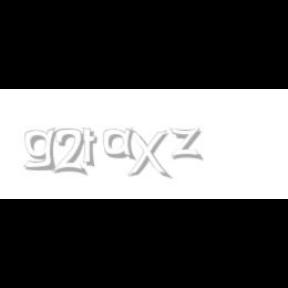2: (52, 128, 86, 176)
X: (125, 128, 169, 180)
a: (104, 128, 140, 160)
g: (24, 128, 60, 171)
t: (80, 128, 102, 168)
z: (169, 128, 205, 160)
